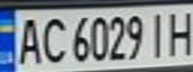0: (87, 12, 109, 63)
2: (106, 11, 130, 62)
6: (66, 12, 90, 63)
9: (124, 11, 148, 61)
A: (12, 14, 45, 66)
C: (36, 14, 69, 65)
H: (163, 7, 193, 57)
I: (145, 9, 172, 58)
